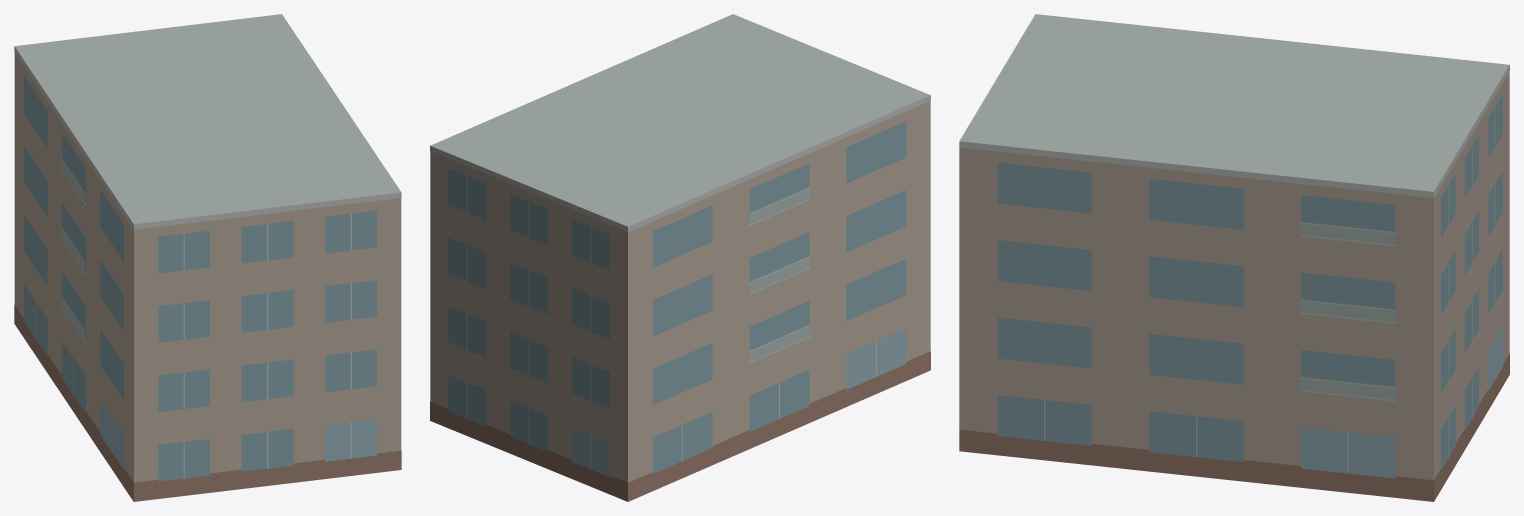
File: residential-8e8f4c38-cd89-418a-a478-14857690bb9e.glb
3 renders of one model, left to right at view 1: azimuth 30°, elevation 25°; view 2: azimuth 150°, elevation 25°; view 3: azimuth 270°, elevation 25°, orthographic. The views are drawn at different scales.
Parts seen in each view (by area): view 1: residential-8e8f4c38-cd89-418a-a478-14857690bb9e.tmp; view 2: residential-8e8f4c38-cd89-418a-a478-14857690bb9e.tmp; view 3: residential-8e8f4c38-cd89-418a-a478-14857690bb9e.tmp.
Part boxes in pixels (x1,y1,x2,y2): residential-8e8f4c38-cd89-418a-a478-14857690bb9e.tmp: (14, 14, 401, 501); residential-8e8f4c38-cd89-418a-a478-14857690bb9e.tmp: (430, 14, 930, 501); residential-8e8f4c38-cd89-418a-a478-14857690bb9e.tmp: (959, 14, 1509, 501).
Size of the model in its own units: 15.03 by 12.2 by 19.65.
